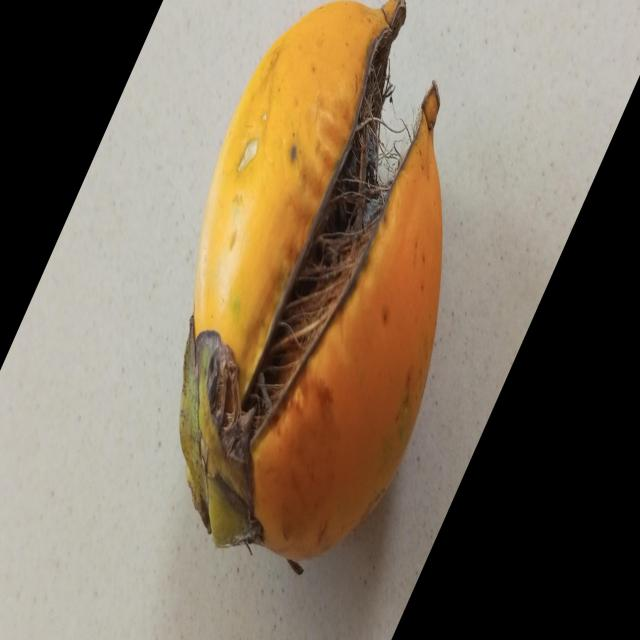damaged: (180, 0, 441, 563)
